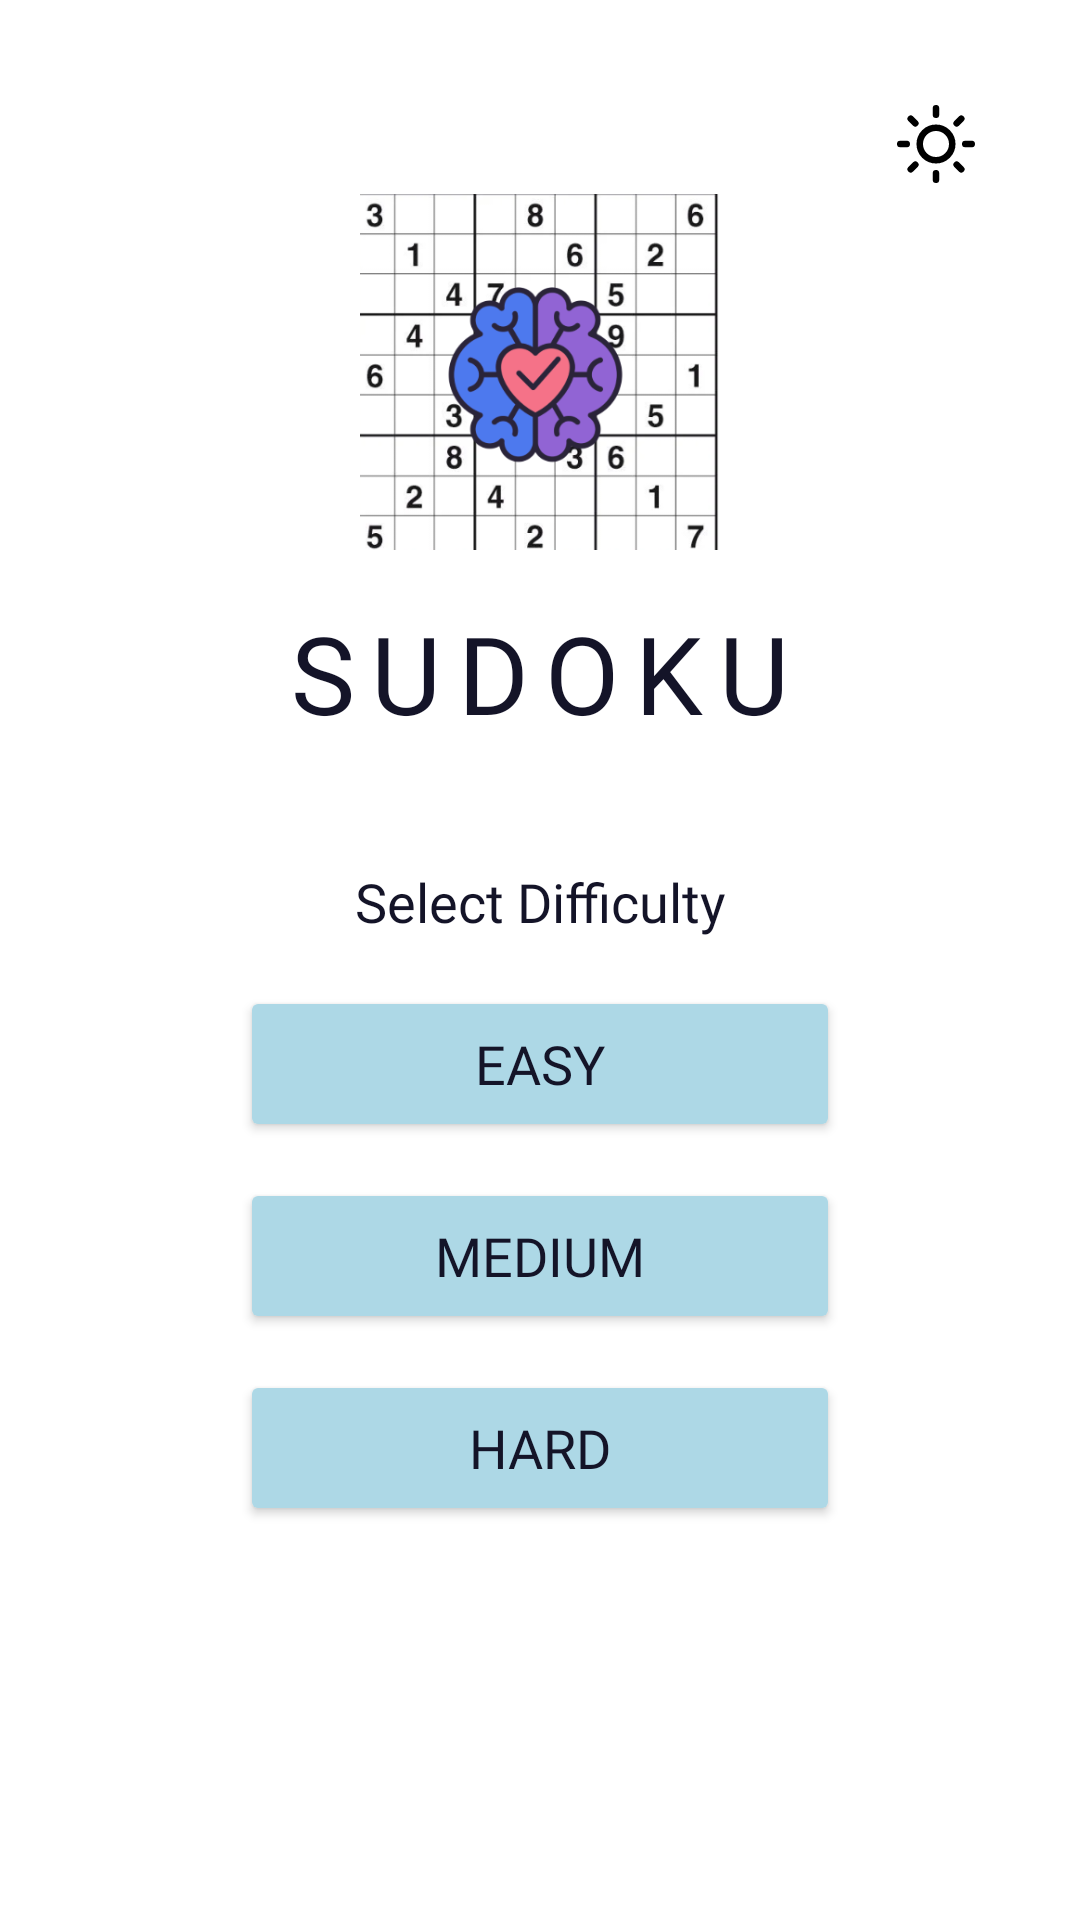

Named icons in this screenshot (1080 × 1920) and their centers, (x,y):
Toggle theme: (936,144)
